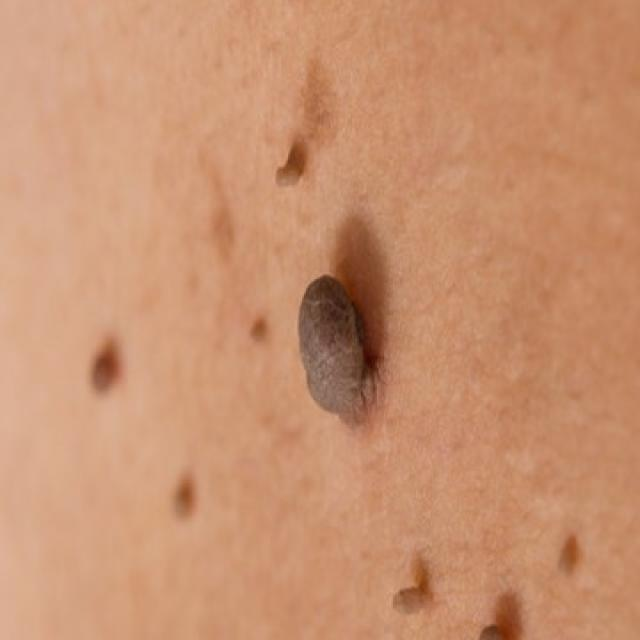wart: (290, 268, 386, 416), (80, 328, 140, 398), (266, 134, 318, 196), (382, 576, 438, 617), (170, 471, 202, 525), (468, 602, 510, 638), (548, 540, 582, 572), (246, 308, 270, 342)
